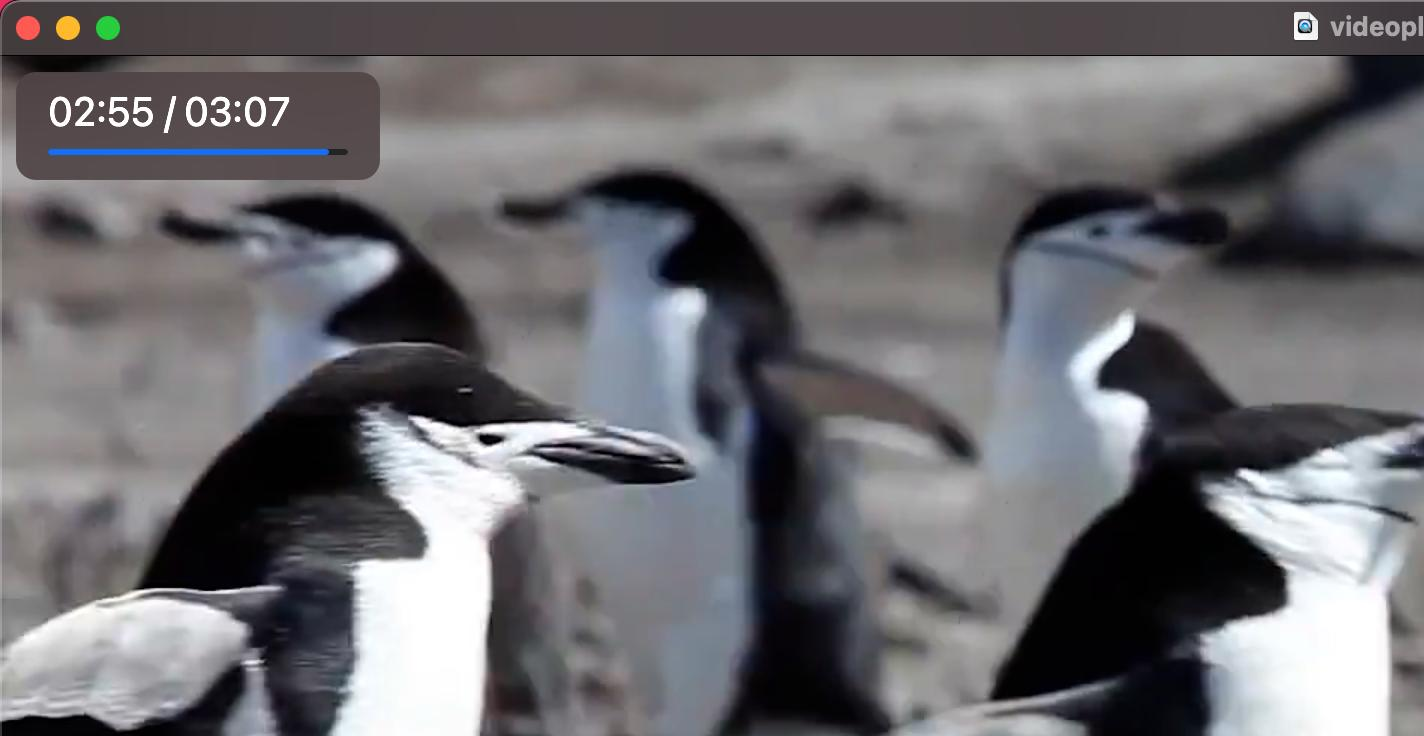Chinstrap Penguin: (0, 333, 714, 736), (480, 153, 970, 736), (745, 373, 1424, 736), (970, 182, 1255, 427), (167, 160, 480, 383)
